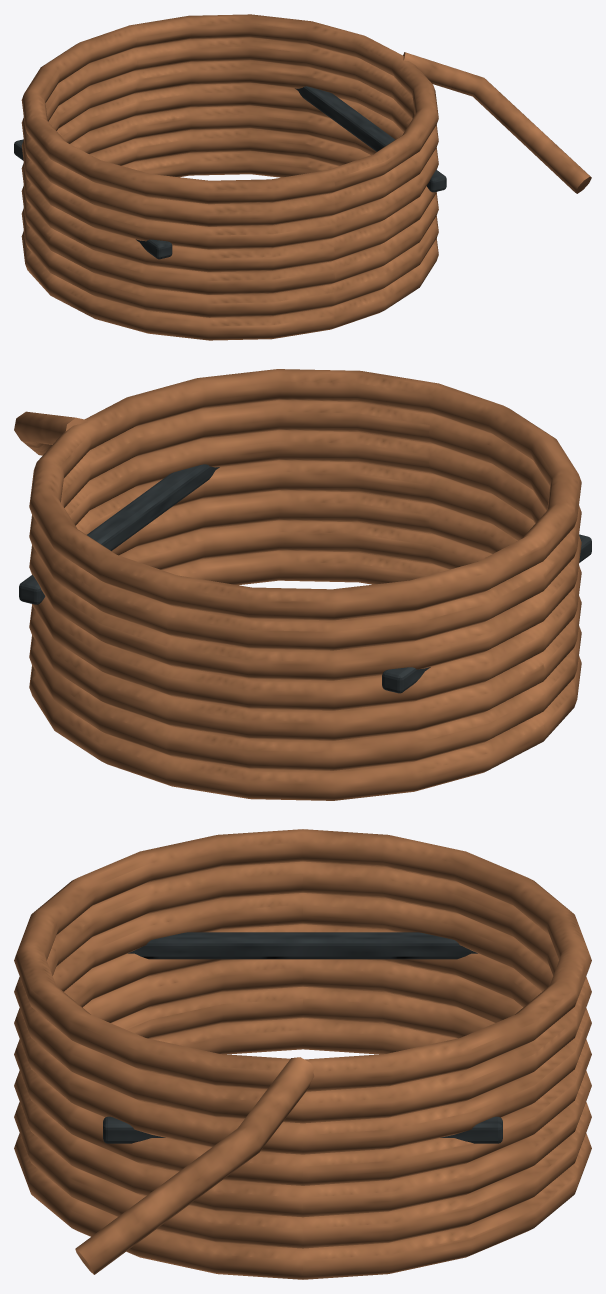
File: GR_CopperTubeCoil_04.glb
The picture shows the model from 3 angles, top to bottom: view 1: azimuth 30°, elevation 25°; view 2: azimuth 150°, elevation 25°; view 3: azimuth 270°, elevation 25°; orthographic projection. The views are drawn at different scales.
Parts seen in each view (by area): view 1: Static; view 2: Static; view 3: Static.
Boxes of the visible parts, x1,y1,x2,y2 form: Static: (14, 14, 591, 340); Static: (14, 369, 591, 800); Static: (14, 829, 591, 1279).
Size of the model in its own units: 0.407 by 0.1351 by 0.318.
1 material, 1 textured.
